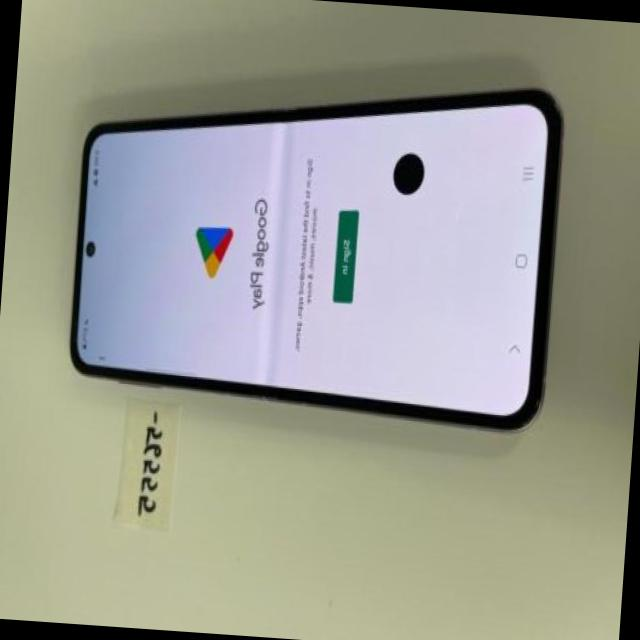dead pixel: (380, 142, 432, 205)
